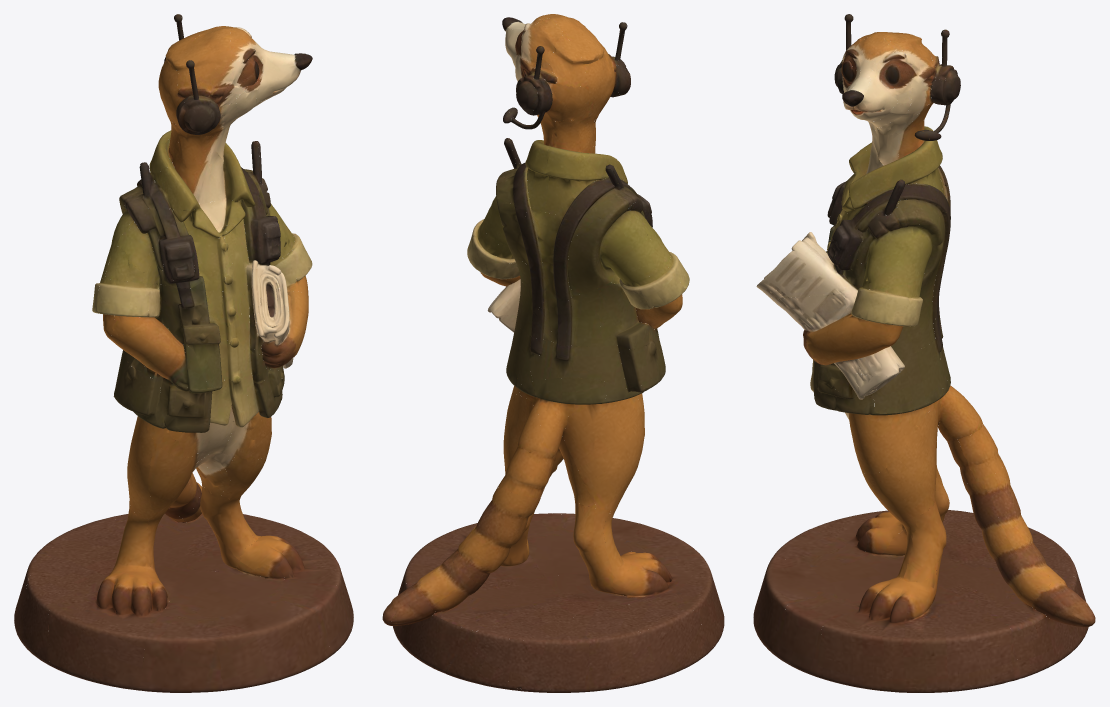
The model's file is web.glb.
The picture shows the model from 3 angles, left to right: view 1: azimuth 30°, elevation 25°; view 2: azimuth 150°, elevation 25°; view 3: azimuth 270°, elevation 25°; orthographic projection. The views are drawn at different scales.
Parts seen in each view (by area): view 1: meerkat; view 2: meerkat; view 3: meerkat.
Boxes of the visible parts, box(x1,y1,x2,y2) form: meerkat: box(14, 14, 353, 692); meerkat: box(382, 14, 724, 692); meerkat: box(753, 14, 1095, 692).
Size of the model in its own units: 0.5148 by 1 by 0.5182.
Materials: 1 (1 with a texture image).
